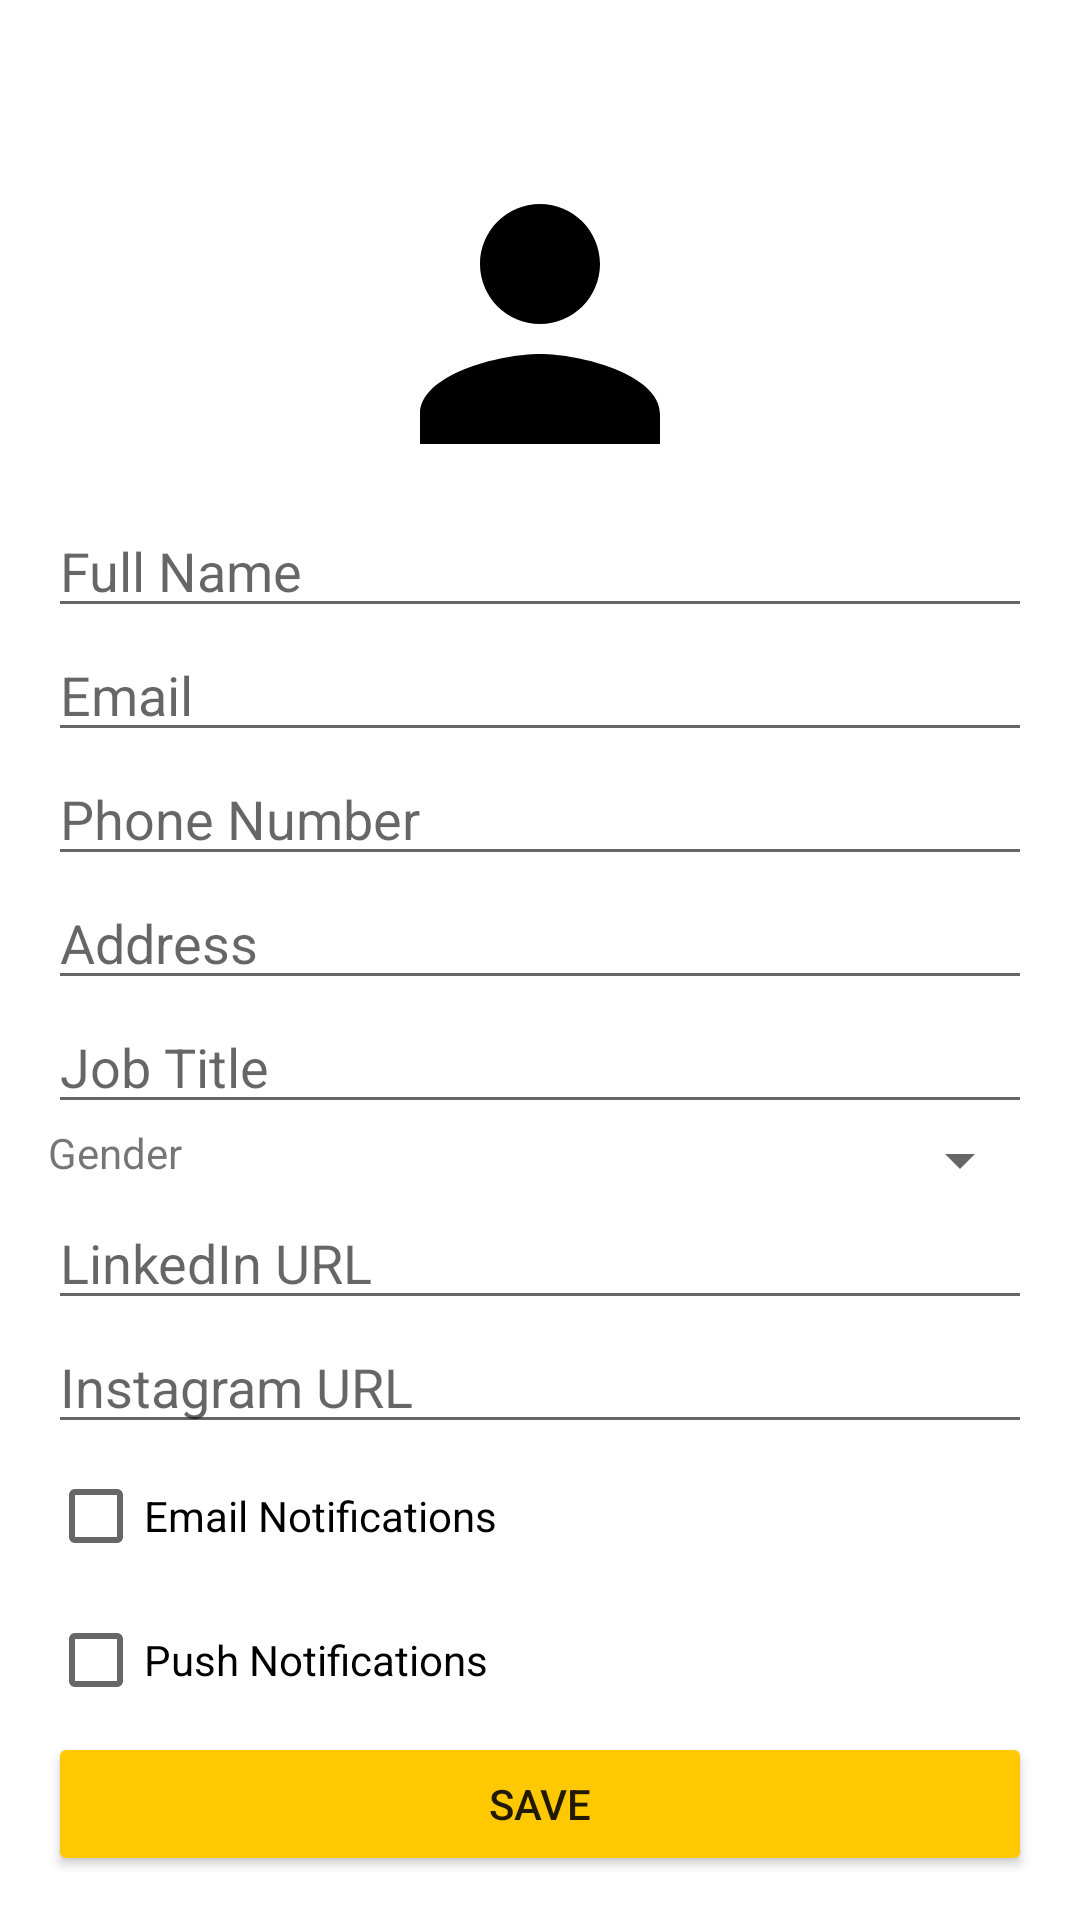

Where icons sit on this 1080*1920 app screen, as (x1, y1, x2, y2):
Profile Image: (420, 204, 660, 444)
